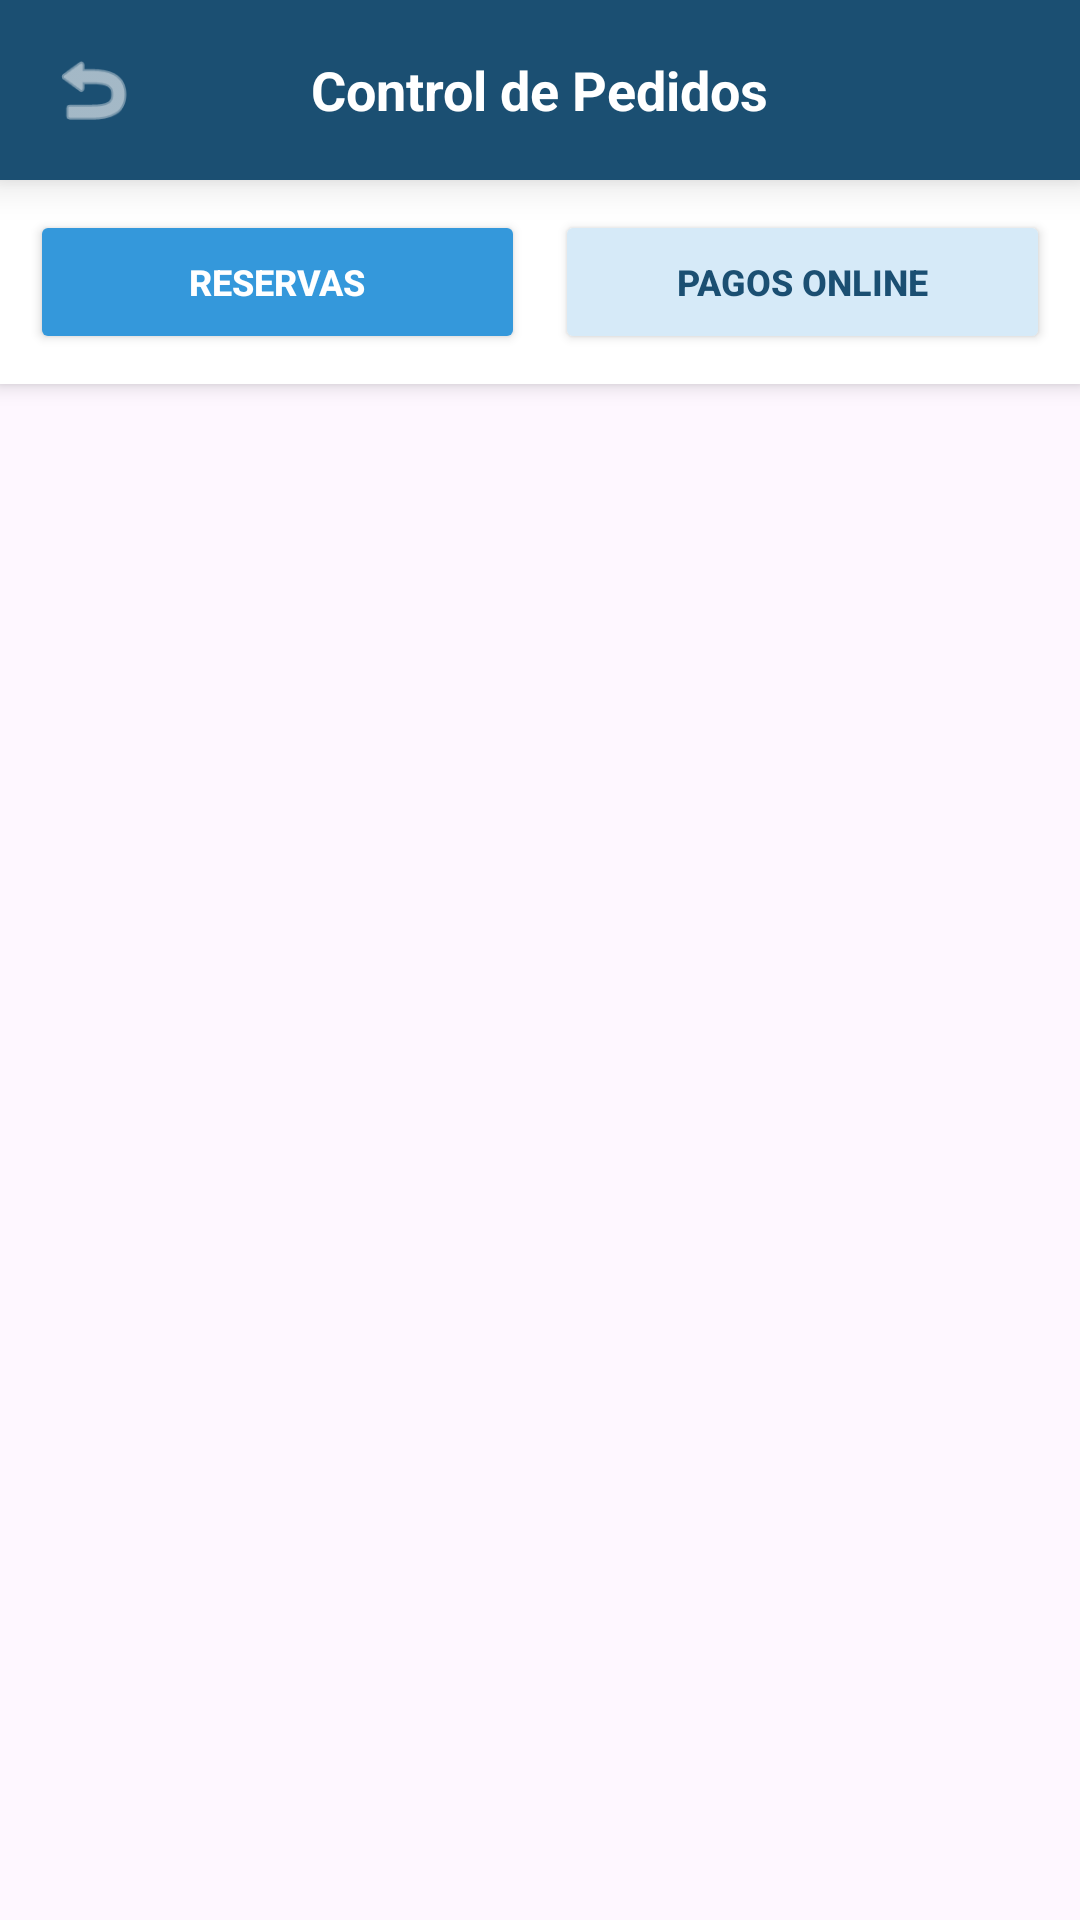

Where icons sit on this 1080*1920 app screen, as (x1, y1, x2, y2):
Atrás: (62, 61, 127, 120)
